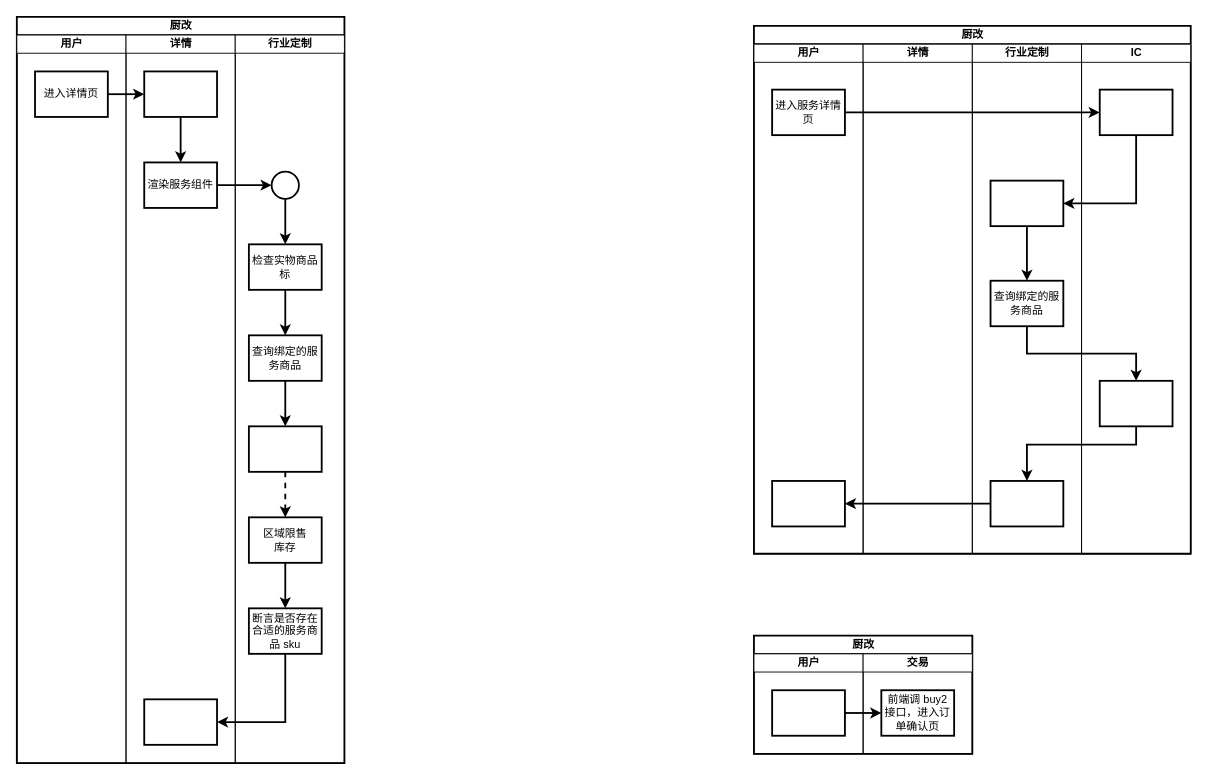
Image size: 1207x779. Some labels were removed from this diagram. The box of each missing label's shape, as (x1, y1, x2, y2) in pixels:
定制: (270, 170, 299, 199)
服务商品排序择其一: (989, 480, 1064, 527)
服务商品排序，列举所有 sku: (248, 425, 322, 472)
服务组件渲染: (143, 698, 217, 745)
查询实物商品: (1098, 88, 1173, 136)
查询服务商品: (1098, 379, 1173, 427)
渲染出所有合适的服务商品: (771, 480, 845, 527)
渲染实物商品: (143, 70, 217, 117)
点击 0 元测量: (771, 689, 845, 736)
过滤出上架中的实物商品 sku: (989, 179, 1064, 227)
